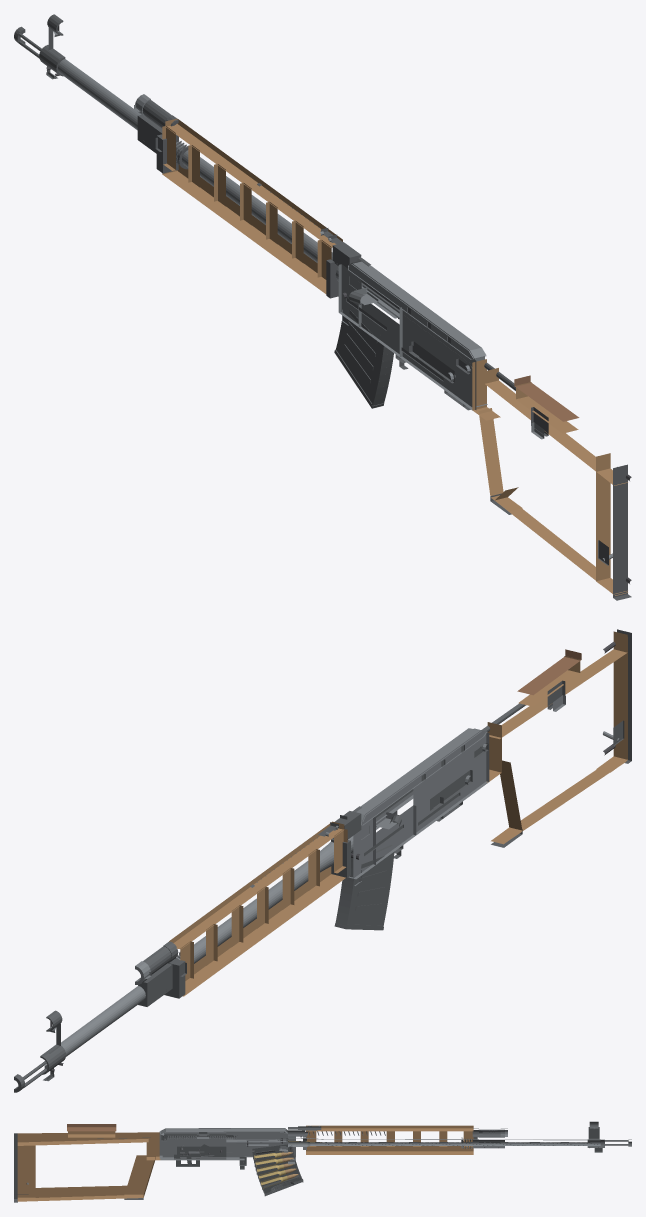
Rendered from svd_cutaway.glb.
The picture shows the model from 3 angles, top to bottom: view 1: azimuth 30°, elevation 25°; view 2: azimuth 150°, elevation 25°; view 3: azimuth 270°, elevation 25°; orthographic projection. The views are drawn at different scales.
Visible parts, largest first — view 1: barrel, ext_hg_lower_keel_right, ext_receiver_wall_right_rear, ext_hg_upper_crest_right, ext_buttplate_steel, ext_dust_cover, ext_stock_rear_butt_pillar, ext_stock_upper_comb_beam, ext_stock_pistol_grip_pillar, ext_stock_lower_toe_strut, ext_receiver_wall_right_below_port, ext_dust_cover_skirt_right (+3 smaller); view 2: barrel, ext_hg_lower_keel_right, ext_receiver_wall_right_rear, ext_hg_upper_crest_right, ext_stock_rear_butt_pillar, ext_stock_upper_comb_beam, ext_dust_cover, ext_stock_lower_toe_strut, ext_dust_cover_skirt_right, ext_receiver_wall_right_below_port, ext_stock_pistol_grip_pillar, ext_receiver_wall_right_front (+4 smaller); view 3: barrel, ext_hg_lower_keel_right, ext_stock_lower_toe_strut, ext_stock_upper_comb_beam, ext_hg_upper_crest_right, ext_receiver_wall_right_rear, ext_stock_rear_butt_pillar, ext_stock_pistol_grip_pillar, int_bolt_carrier_body, ext_dust_cover, ext_cheekpiece_leather_pad, int_fcg_housing_wall_right (+13 smaller).
Boxes of the visible parts, x1=… form: barrel: x1=58, y1=59, x2=338, y2=281; ext_hg_lower_keel_right: x1=162, y1=164, x2=326, y2=293; ext_receiver_wall_right_rear: x1=399, y1=307, x2=476, y2=410; ext_hg_upper_crest_right: x1=165, y1=118, x2=342, y2=247; ext_buttplate_steel: x1=613, y1=464, x2=631, y2=600; ext_dust_cover: x1=348, y1=260, x2=486, y2=359; ext_stock_rear_butt_pillar: x1=596, y1=453, x2=627, y2=594; ext_stock_upper_comb_beam: x1=484, y1=368, x2=627, y2=485; ext_stock_pistol_grip_pillar: x1=478, y1=408, x2=522, y2=511; ext_stock_lower_toe_strut: x1=495, y1=487, x2=627, y2=595; ext_receiver_wall_right_below_port: x1=358, y1=302, x2=399, y2=356; ext_dust_cover_skirt_right: x1=348, y1=263, x2=474, y2=359; barrel: x1=44, y1=836, x2=353, y2=1069; ext_hg_lower_keel_right: x1=183, y1=866, x2=345, y2=996; ext_receiver_wall_right_rear: x1=413, y1=732, x2=489, y2=834; ext_hg_upper_crest_right: x1=169, y1=821, x2=344, y2=949; ext_stock_rear_butt_pillar: x1=596, y1=633, x2=627, y2=772; ext_stock_upper_comb_beam: x1=489, y1=631, x2=627, y2=739; ext_dust_cover: x1=356, y1=728, x2=486, y2=821; ext_stock_lower_toe_strut: x1=510, y1=740, x2=626, y2=839; ext_dust_cover_skirt_right: x1=362, y1=730, x2=486, y2=825; ext_receiver_wall_right_below_port: x1=376, y1=805, x2=416, y2=864; ext_stock_pistol_grip_pillar: x1=491, y1=760, x2=522, y2=844; ext_receiver_wall_right_front: x1=353, y1=817, x2=375, y2=879; barrel: x1=288, y1=1137, x2=600, y2=1147; ext_hg_lower_keel_right: x1=306, y1=1146, x2=473, y2=1154; ext_stock_lower_toe_strut: x1=17, y1=1185, x2=137, y2=1201; ext_stock_upper_comb_beam: x1=17, y1=1132, x2=148, y2=1145; ext_hg_upper_crest_right: x1=306, y1=1125, x2=473, y2=1131; ext_receiver_wall_right_rear: x1=159, y1=1131, x2=234, y2=1155; ext_stock_rear_butt_pillar: x1=17, y1=1145, x2=35, y2=1200; ext_stock_pistol_grip_pillar: x1=124, y1=1155, x2=155, y2=1197; int_bolt_carrier_body: x1=226, y1=1131, x2=279, y2=1142; ext_dust_cover: x1=160, y1=1128, x2=287, y2=1135; ext_cheekpiece_leather_pad: x1=67, y1=1124, x2=116, y2=1131; int_fcg_housing_wall_right: x1=177, y1=1146, x2=226, y2=1157.
Bounding box in the file's own units: 0.0361 × 0.1768 × 1.22.
